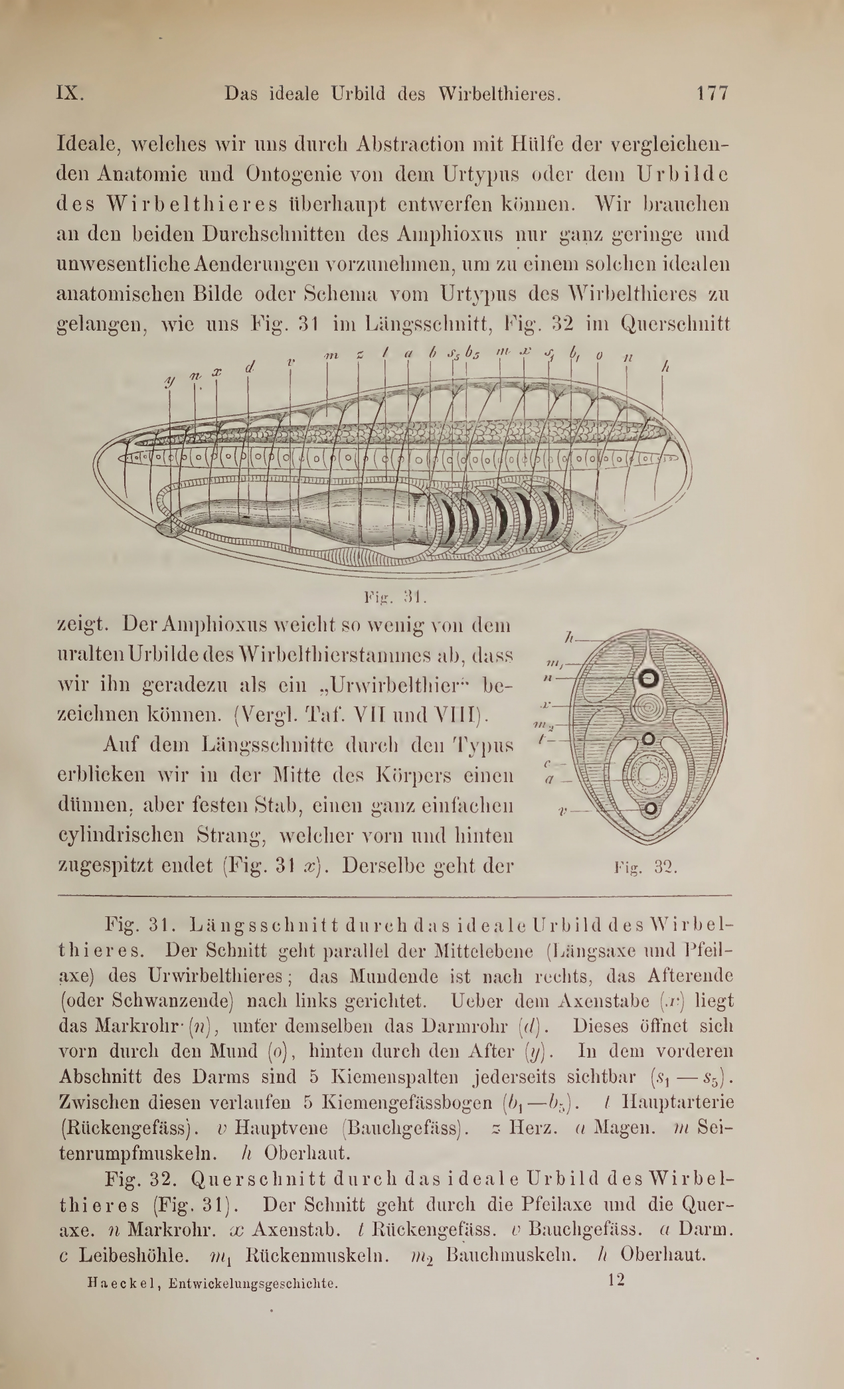GraphicZone_Description: (610, 854, 685, 882), (349, 586, 433, 609)
GraphicZone_Illustration: (70, 341, 735, 578), (535, 617, 739, 849)
MainZone: (49, 128, 749, 338), (51, 605, 536, 885)
MarginTextZone note: (44, 905, 755, 1267)
NumberingZone chapter: (48, 72, 92, 110)
NumberingZone_page: (687, 72, 746, 111)
QuireMarksZone: (72, 1271, 354, 1301), (603, 1267, 632, 1292)
RunningTitleZone: (213, 73, 577, 111)
